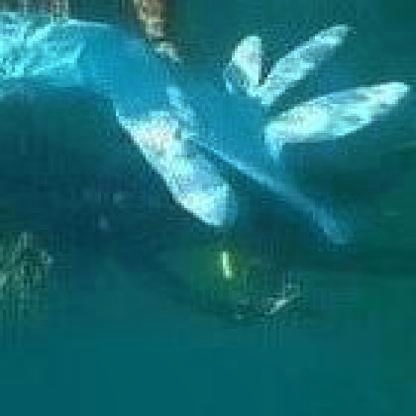glove: (0, 12, 413, 252)
